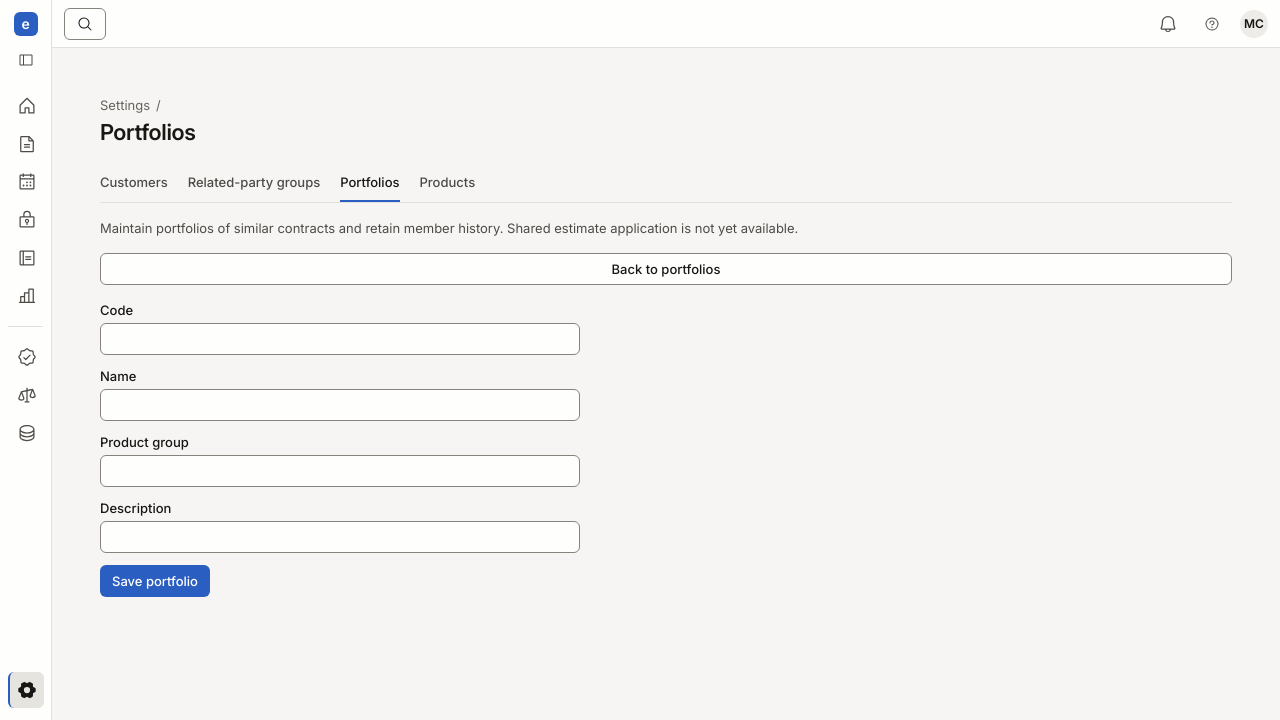
Scenario: creates a portfolio and opens its membership page
This screenshot has width=1280, height=720.
Type "RETURNS" into the field labelled "Code".
click(340, 339); type("RETURNS")  # box [100,323,580,355]
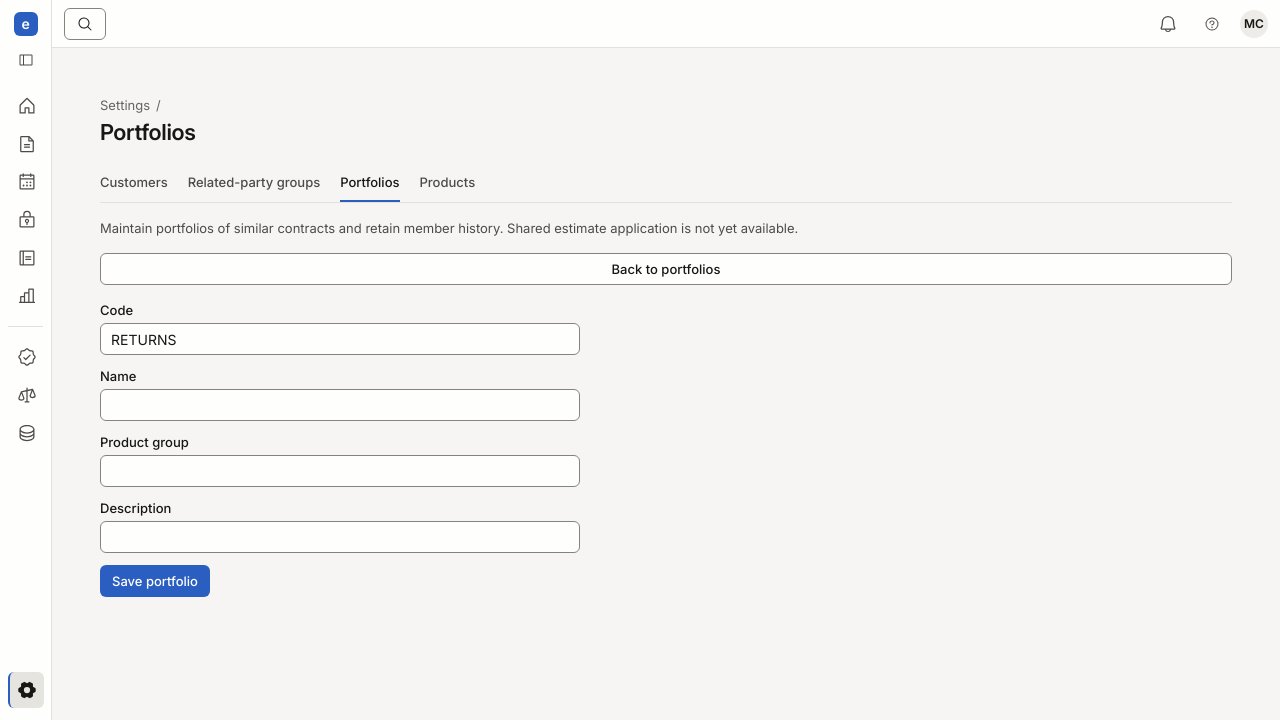
Type "Similar returns" into the field labelled "Name".
click(340, 405); type("Similar returns")  # box [100,389,580,421]
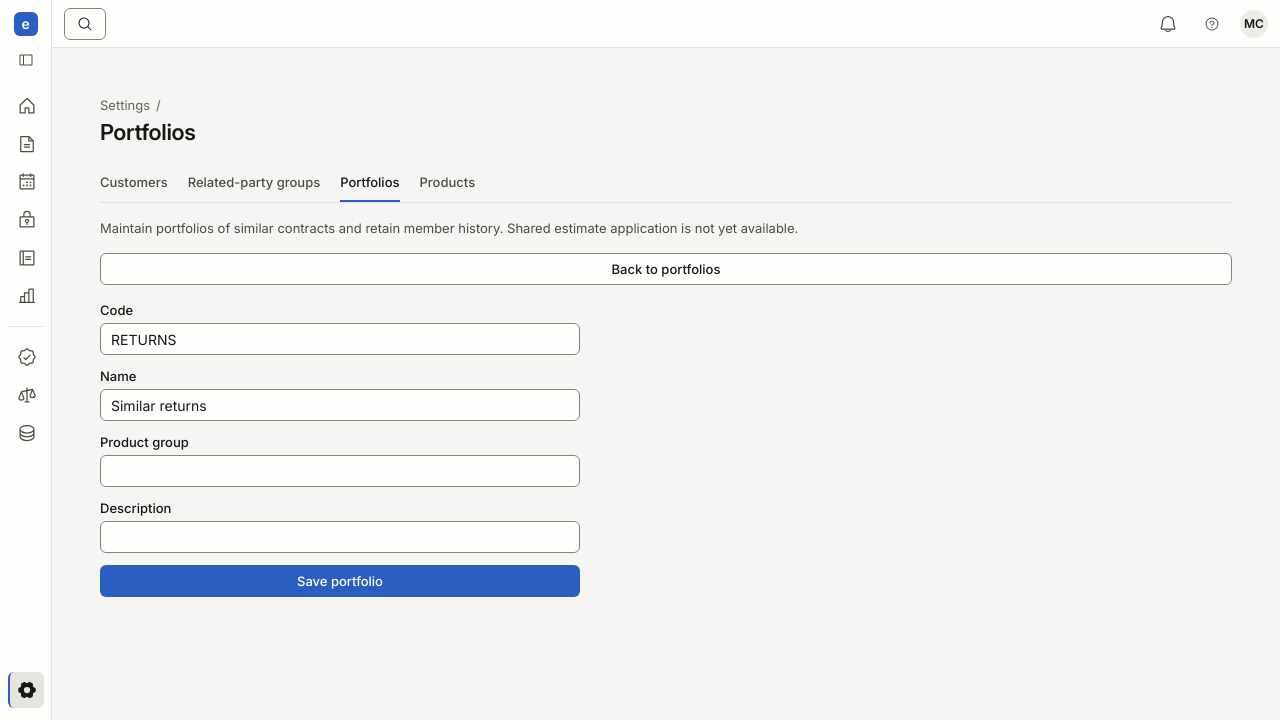
Click the button "Save portfolio".
click(340, 581)  # box [100,565,580,597]
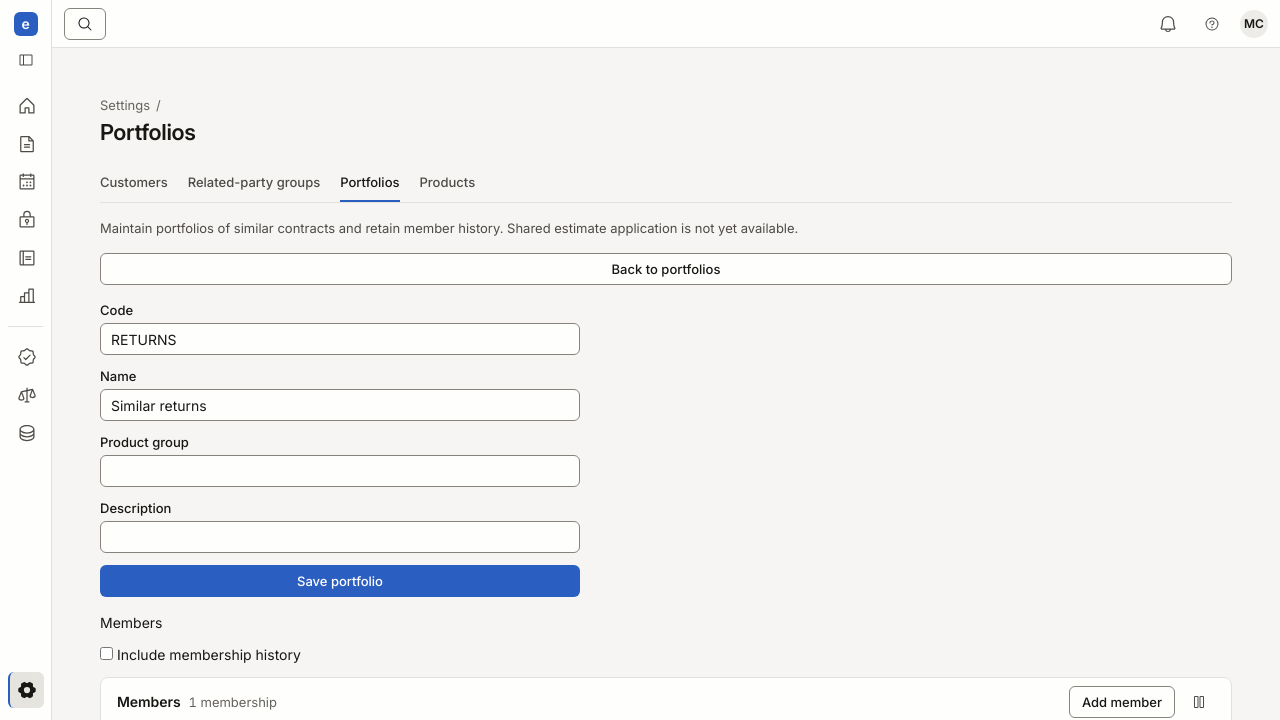
Now the button "Add member" is shown, box [1069,686,1175,718]
